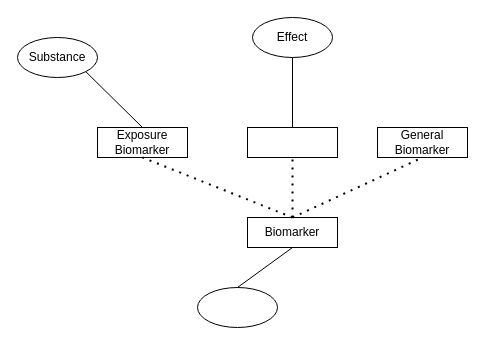
This 485x345 diagram has some shape labels left out. Here are the shapes that lost their labels. From the top down, the centre of each, then its label:
At point (292, 142): "Effect Biomarker".
At point (237, 307): "Id".
